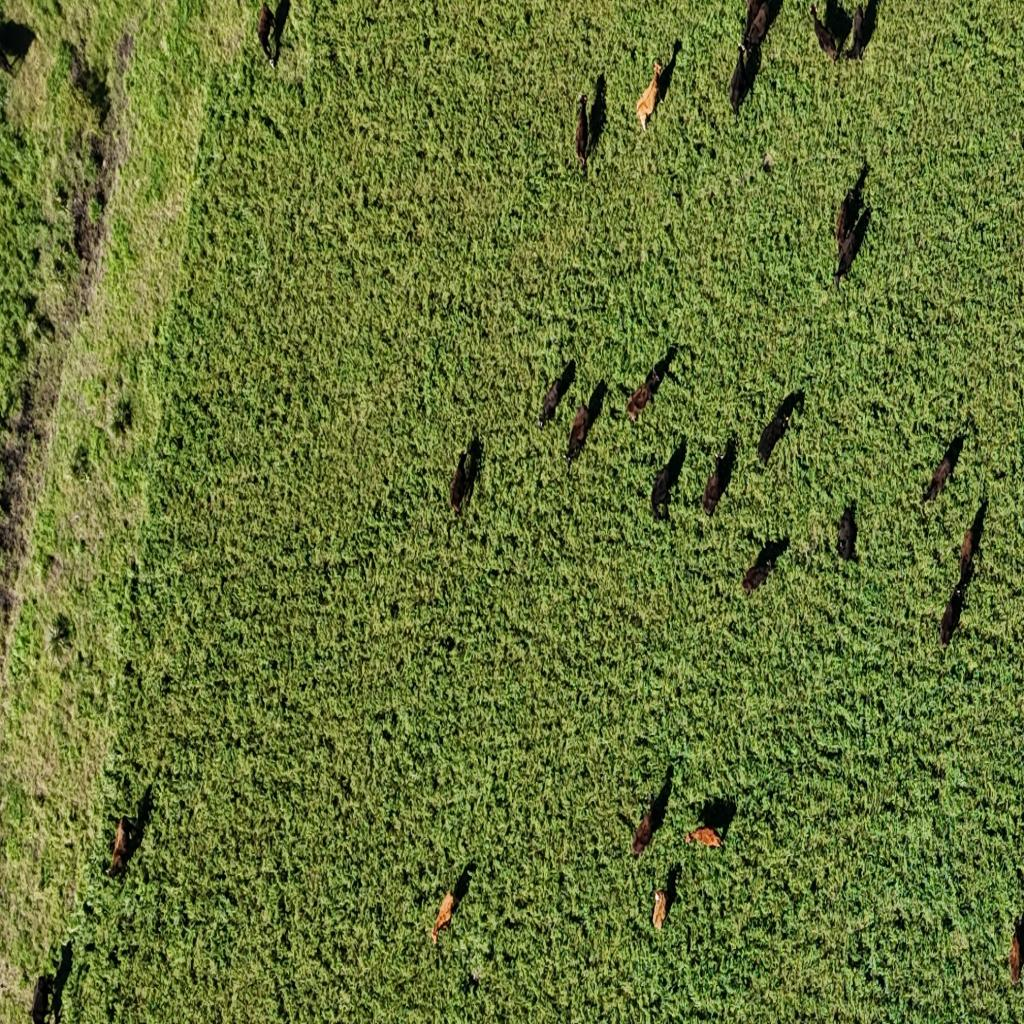cow: (634, 44, 678, 134), (757, 390, 802, 466), (740, 534, 792, 599), (633, 771, 672, 857), (920, 431, 964, 505), (649, 440, 685, 520), (702, 440, 735, 516), (537, 361, 573, 429), (832, 230, 872, 290), (449, 438, 479, 517), (938, 570, 968, 648), (680, 818, 732, 862), (961, 495, 988, 579), (625, 367, 662, 426), (106, 814, 138, 877), (728, 40, 754, 116), (810, 1, 840, 63), (834, 181, 862, 245), (565, 402, 590, 471), (743, 0, 774, 54), (847, 1, 871, 63), (254, 0, 274, 70), (430, 892, 455, 946), (1006, 910, 1024, 984), (740, 33, 762, 90), (836, 505, 857, 564), (574, 93, 589, 171), (30, 974, 52, 1024), (652, 886, 670, 934)
